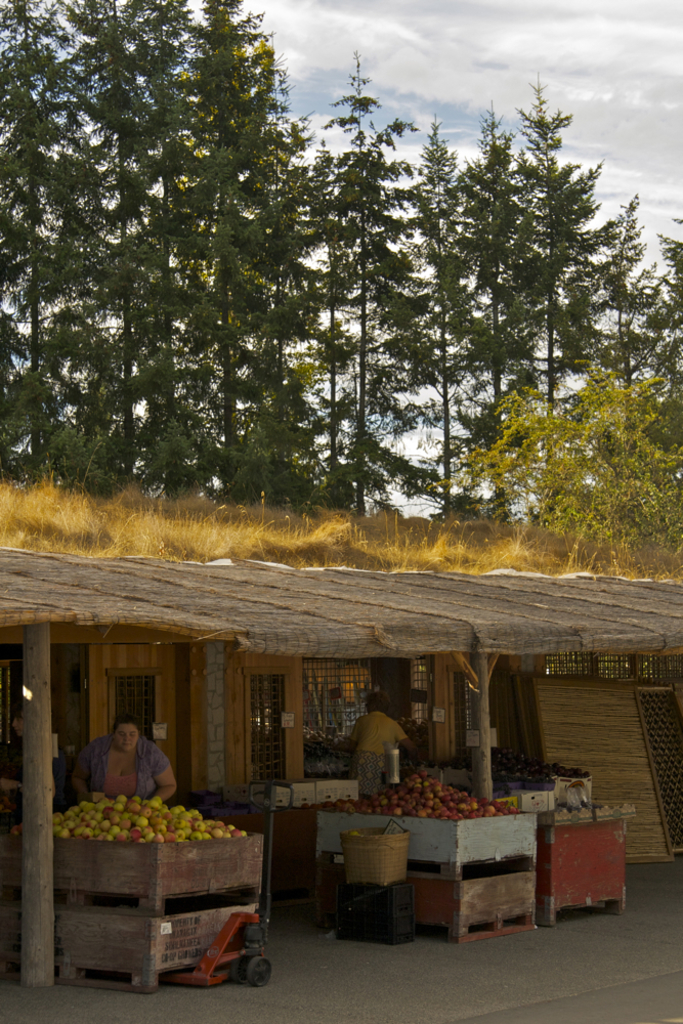Apple: (8, 795, 252, 844), (302, 766, 522, 818), (110, 823, 119, 834)
